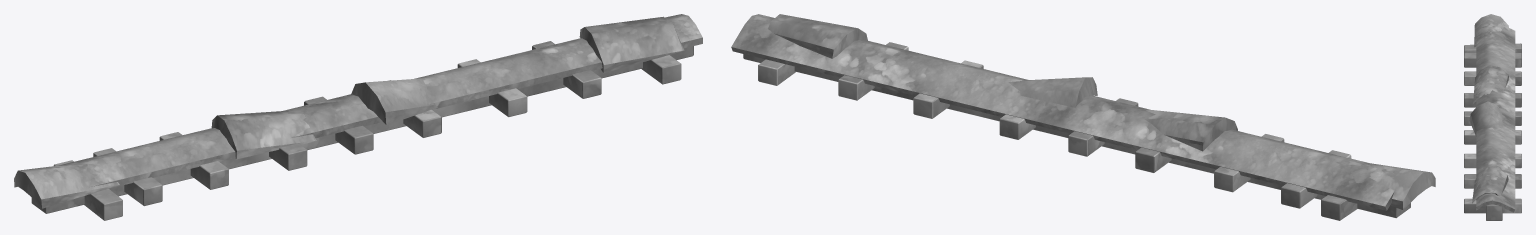
File: SM_Rooftiles_01f.fbx
3 renders of one model, left to right at view 1: azimuth 30°, elevation 25°; view 2: azimuth 150°, elevation 25°; view 3: azimuth 270°, elevation 25°, orthographic. The views are drawn at different scales.
Visible parts, largest first — view 1: SM_Rooftiles_01f_LOD0; view 2: SM_Rooftiles_01f_LOD0; view 3: SM_Rooftiles_01f_LOD0.
Part boxes in pixels (<box>): SM_Rooftiles_01f_LOD0: <box>14,14,702,220</box>; SM_Rooftiles_01f_LOD0: <box>731,14,1435,220</box>; SM_Rooftiles_01f_LOD0: <box>1464,14,1521,220</box>.
Bounding box in the file's own units: 339 × 45.02 × 26.68.
